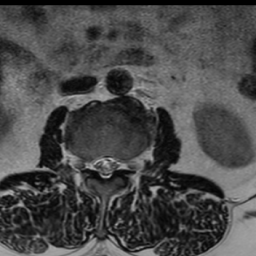CCS_normal: (101, 151, 109, 185)
LFS_normal: (118, 152, 126, 177)
LLS_normal: (110, 153, 118, 176)
RFS_normal: (83, 150, 91, 176)
RLS_normal: (91, 152, 102, 176)
